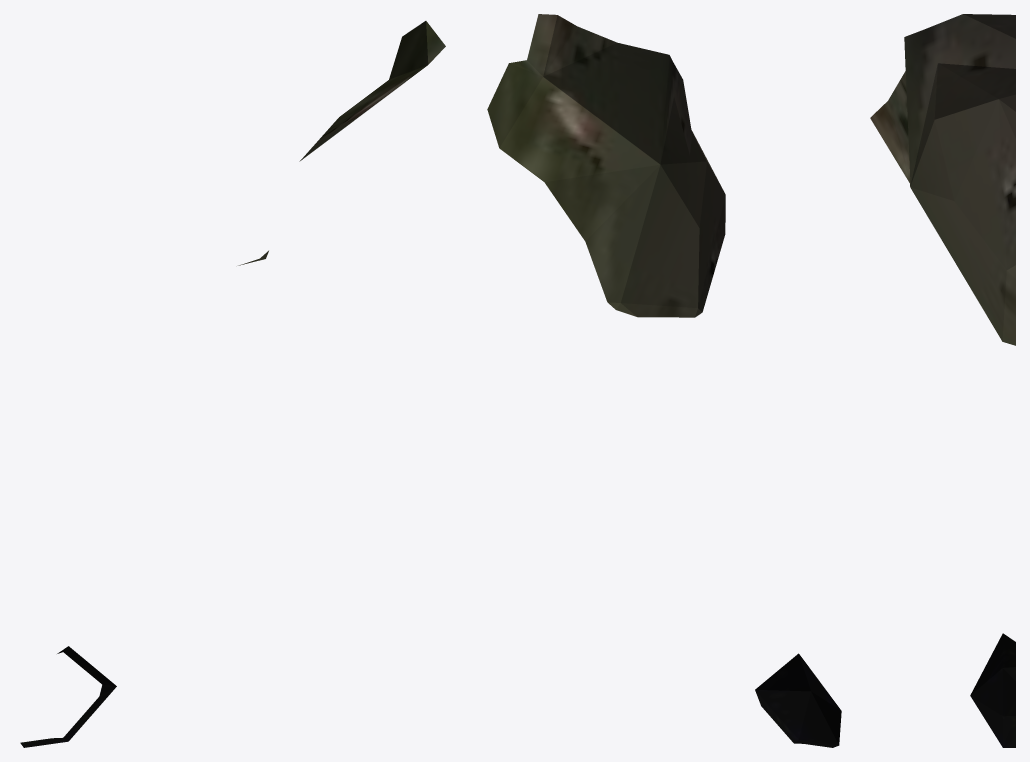
3 views of the same model, side by side, from view 1: azimuth 30°, elevation 25°; view 2: azimuth 150°, elevation 25°; view 3: azimuth 270°, elevation 25° (orthographic). The views are drawn at different scales.
Size of the model in its own units: 0.9245 by 1.55 by 0.2511.
1 material, 1 textured.
